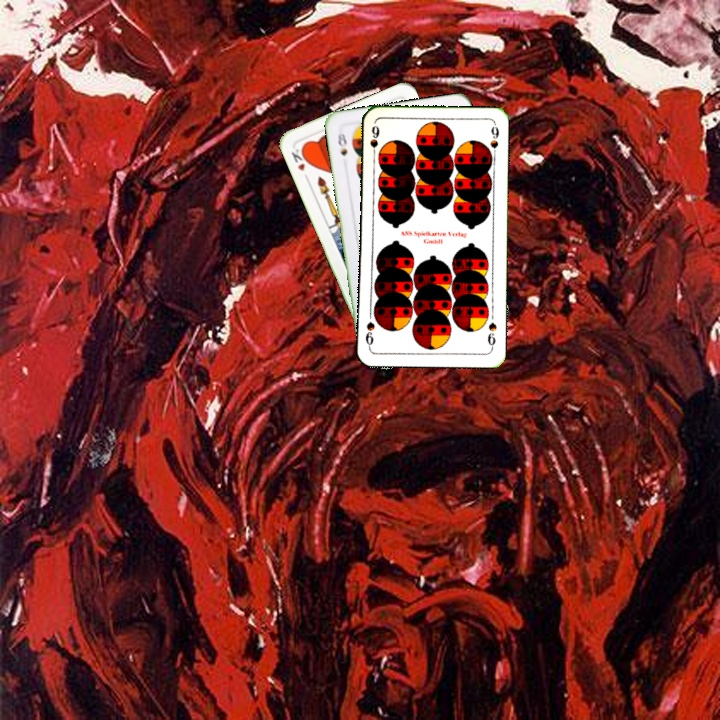HK: (287, 143, 312, 183)
S8: (334, 129, 350, 159)
S9: (366, 121, 382, 161), (483, 319, 499, 351)
